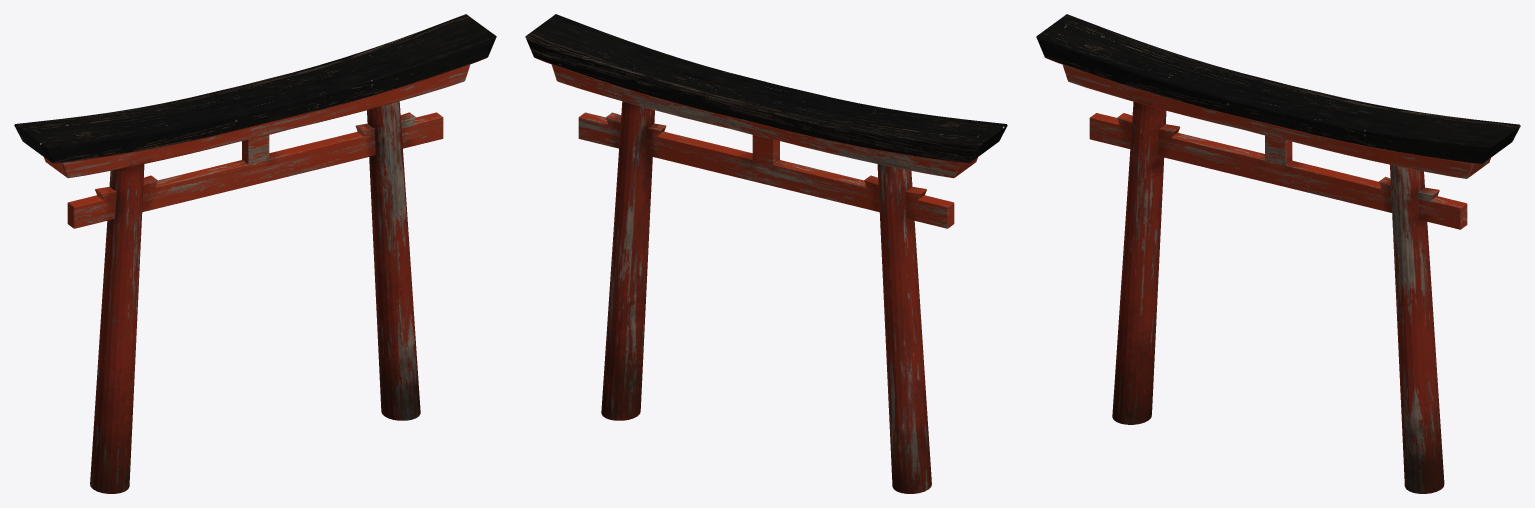
The model's file is japanese_tori_gate.glb.
3 views of the same model, side by side, from view 1: azimuth 30°, elevation 25°; view 2: azimuth 150°, elevation 25°; view 3: azimuth 330°, elevation 25° (orthographic).
Parts seen in each view (by area): view 1: pCube3; view 2: pCube3; view 3: pCube3.
Part boxes in pixels (box(x1,y1,x2,y2)): pCube3: box(14, 14, 496, 493); pCube3: box(525, 14, 1007, 493); pCube3: box(1036, 14, 1520, 493).
Size of the model in its own units: 13.08 by 10.22 by 1.54.
Materials: 1 (1 with a texture image).
